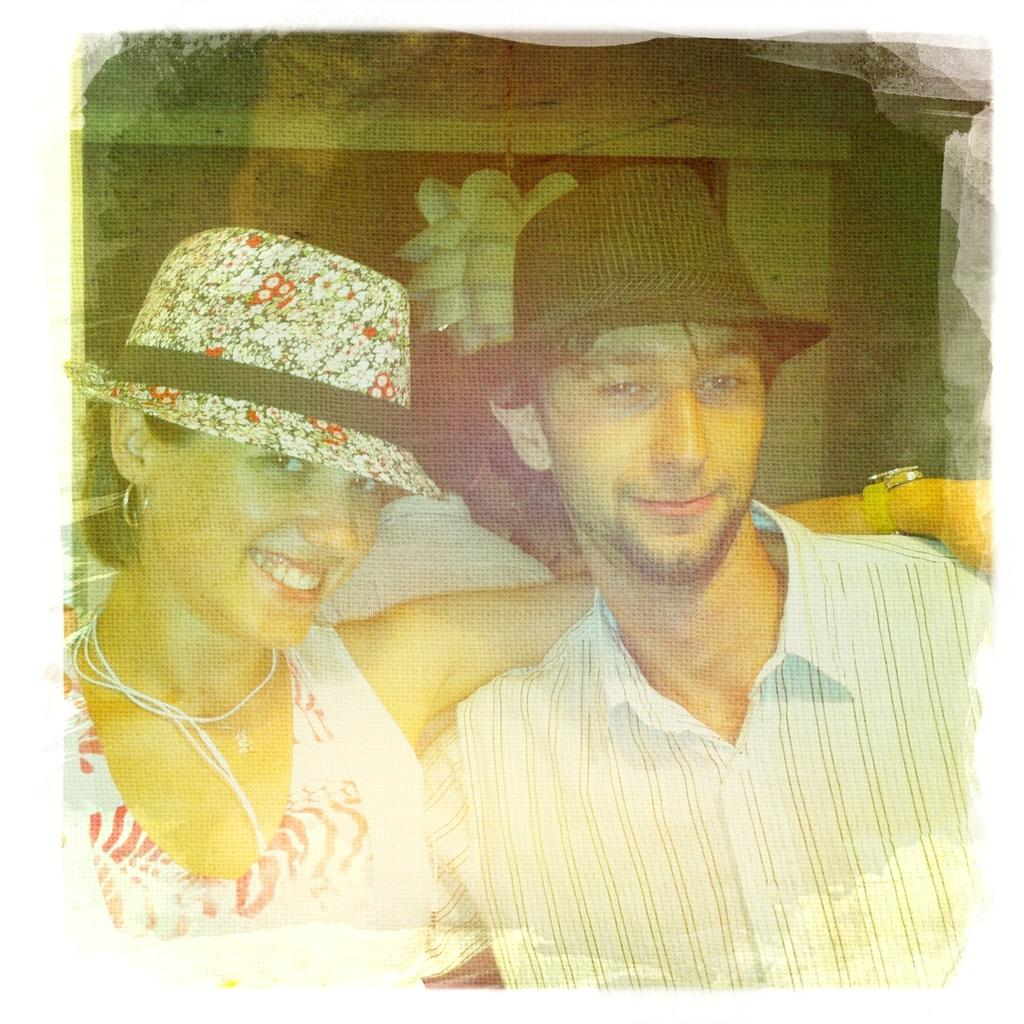Hat: (62, 221, 440, 497), (452, 168, 832, 404)
